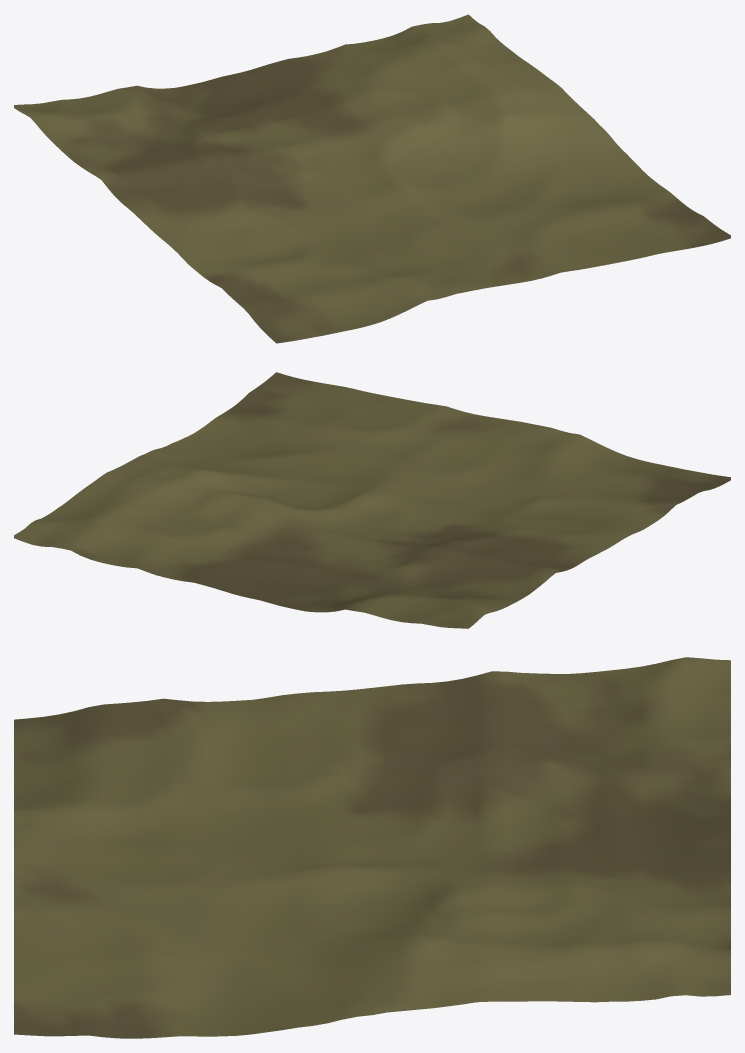
The model's file is land_m_01_02.glb.
3 views of the same model, one above another, from view 1: azimuth 30°, elevation 25°; view 2: azimuth 150°, elevation 25°; view 3: azimuth 270°, elevation 25° (orthographic). The views are drawn at different scales.
Visible parts, largest first — view 1: land_m_01_02; view 2: land_m_01_02; view 3: land_m_01_02.
Part boxes in pixels (bbox=[...]): land_m_01_02: bbox=[14, 14, 730, 343]; land_m_01_02: bbox=[14, 372, 730, 628]; land_m_01_02: bbox=[14, 657, 730, 1038].
Size of the model in its own units: 960 by 116 by 960.
